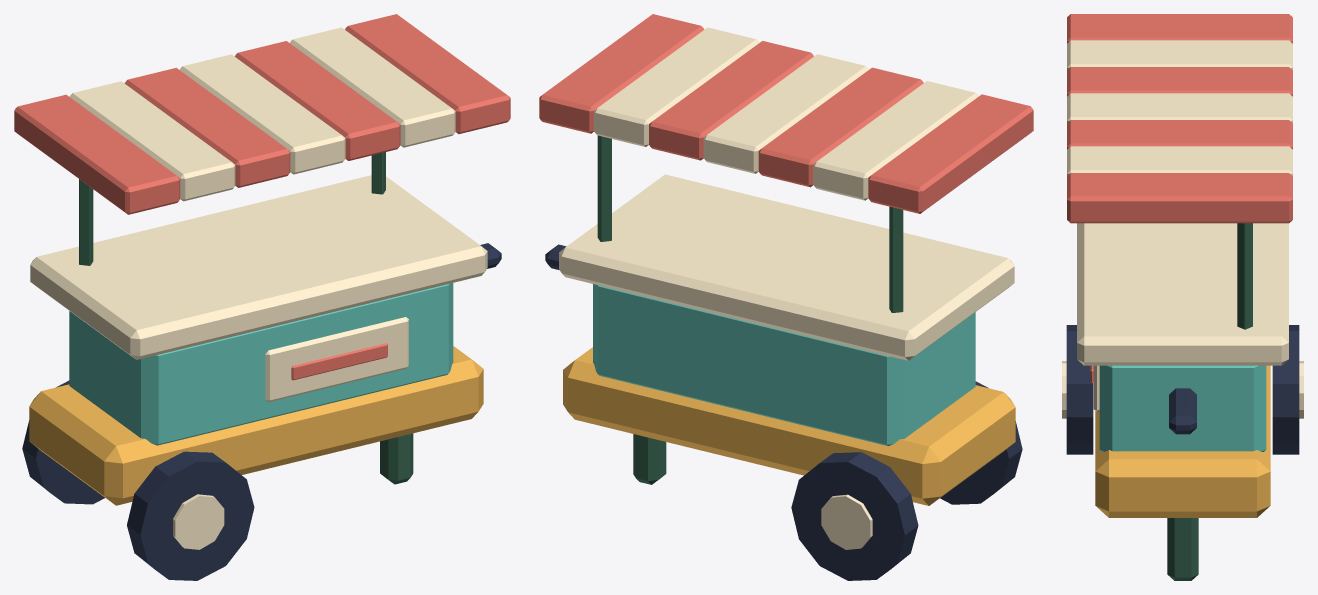
Rendered from cart.fbx.
3 renders of one model, left to right at view 1: azimuth 30°, elevation 25°; view 2: azimuth 150°, elevation 25°; view 3: azimuth 270°, elevation 25°, orthographic.
Visible parts, largest first — view 1: Service counter, Painted cabinet, Cart base, Wheel tire, Awning stripe, Awning stripe.006, Awning stripe.002, Awning stripe.005, Awning stripe.003, Awning stripe.001, Awning stripe.004, Sign (+5 smaller); view 2: Service counter, Painted cabinet, Cart base, Wheel tire.001, Awning stripe, Awning stripe.003, Awning stripe.001, Awning stripe.002, Awning stripe.005, Awning stripe.006, Awning stripe.004, Wheel tire (+4 smaller); view 3: Service counter, Painted cabinet, Cart base, Awning stripe.006, Awning stripe.001, Awning stripe.003, Awning stripe, Awning stripe.002, Awning stripe.004, Awning stripe.005, Wheel tire.001, Wheel tire (+3 smaller).
Boxes of the visible parts, box(x1,y1,x2,y2) form: Service counter: box(30, 175, 487, 359); Painted cabinet: box(69, 283, 453, 445); Cart base: box(29, 346, 483, 505); Wheel tire: box(127, 451, 254, 580); Awning stripe: box(14, 94, 180, 214); Awning stripe.006: box(345, 14, 510, 134); Awning stripe.002: box(124, 67, 290, 187); Awning stripe.005: box(290, 27, 455, 147); Awning stripe.003: box(180, 54, 345, 174); Awning stripe.001: box(69, 81, 235, 201); Awning stripe.004: box(235, 41, 400, 160); Sign: box(265, 317, 408, 402); Service counter: box(559, 174, 1014, 360); Painted cabinet: box(593, 284, 975, 445); Cart base: box(563, 347, 1015, 505); Wheel tire.001: box(791, 452, 918, 580); Awning stripe: box(868, 94, 1033, 213); Awning stripe.003: box(703, 54, 868, 173); Awning stripe.001: box(813, 81, 978, 200); Awning stripe.002: box(758, 67, 923, 187); Awning stripe.005: box(594, 27, 758, 146); Awning stripe.006: box(539, 14, 704, 133); Awning stripe.004: box(649, 41, 813, 160); Wheel tire: box(940, 381, 1022, 504); Service counter: box(1077, 223, 1288, 365); Painted cabinet: box(1099, 365, 1266, 451); Cart base: box(1095, 365, 1270, 517); Awning stripe.006: box(1067, 173, 1292, 223); Awning stripe.001: box(1067, 40, 1292, 69); Awning stripe.003: box(1067, 93, 1292, 122); Awning stripe: box(1067, 14, 1292, 43); Awning stripe.002: box(1067, 67, 1292, 96); Awning stripe.004: box(1067, 120, 1292, 149); Awning stripe.005: box(1067, 146, 1292, 175); Wheel tire.001: box(1272, 325, 1299, 454); Wheel tire: box(1066, 325, 1093, 454).
Size of the model in its own units: 174 by 159 by 85.62.
